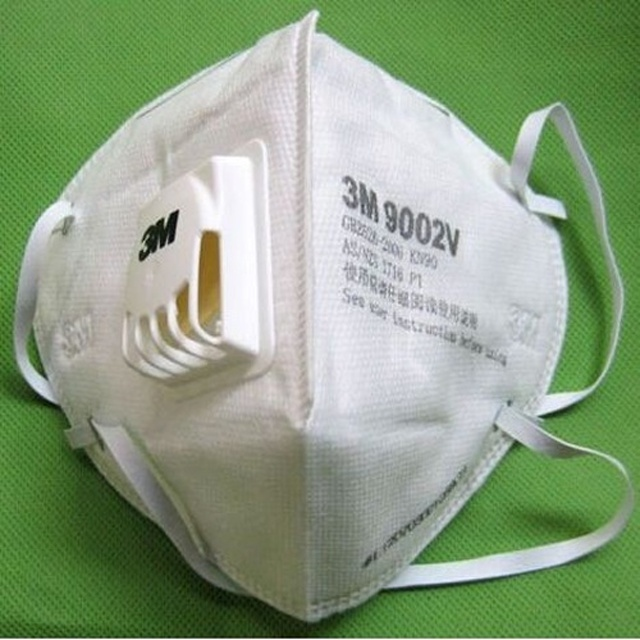mask: (14, 14, 633, 626)
